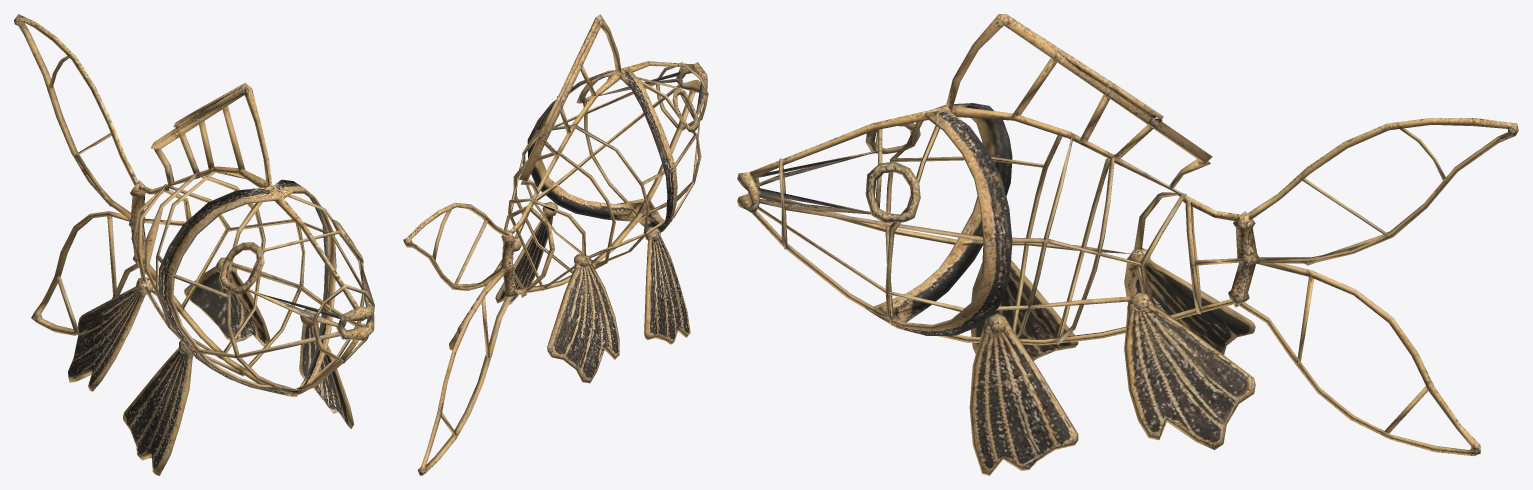
File: fish-skeleton.glb
3 views of the same model, side by side, from view 1: azimuth 30°, elevation 25°; view 2: azimuth 150°, elevation 25°; view 3: azimuth 270°, elevation 25° (orthographic). The views are drawn at different scales.
Parts seen in each view (by area): view 1: tripo_node_4de9b016-04e6-4807-8ed2-61af528d1c37; view 2: tripo_node_4de9b016-04e6-4807-8ed2-61af528d1c37; view 3: tripo_node_4de9b016-04e6-4807-8ed2-61af528d1c37.
Boxes of the visible parts, box(x1,y1,x2,y2) form: tripo_node_4de9b016-04e6-4807-8ed2-61af528d1c37: box(14, 14, 374, 475); tripo_node_4de9b016-04e6-4807-8ed2-61af528d1c37: box(403, 14, 708, 475); tripo_node_4de9b016-04e6-4807-8ed2-61af528d1c37: box(737, 14, 1518, 475).
Size of the model in its own units: 0.3301 by 0.623 by 0.998.
1 material, 1 textured.
